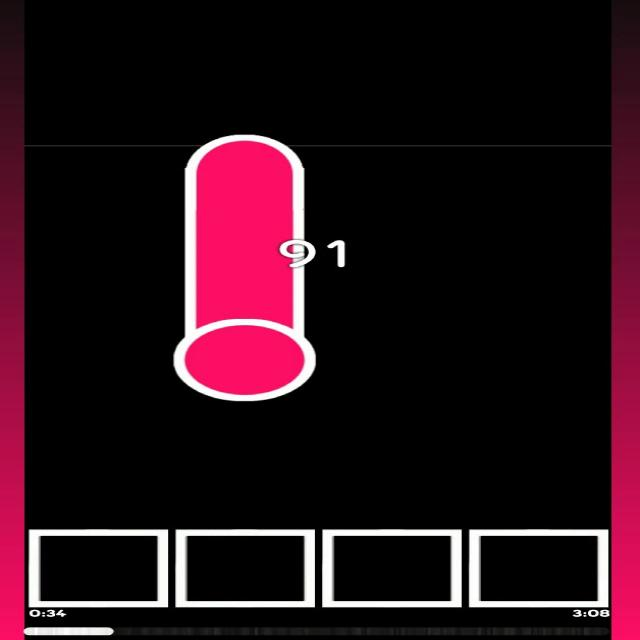end_hold: (185, 124, 304, 174)
start_hold: (174, 293, 318, 402)
